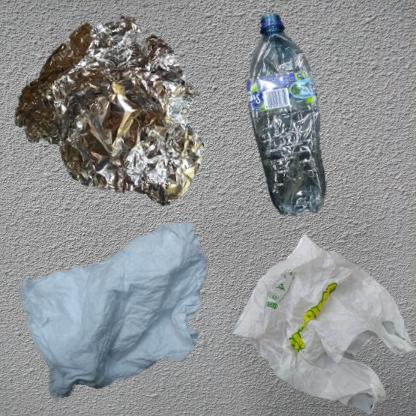aluminio: (10, 10, 213, 209)
bolsa: (213, 213, 416, 416)
botella: (213, 10, 386, 252)
papel: (10, 213, 256, 416)
